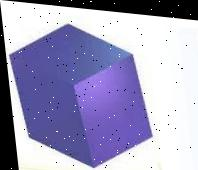cube: (3, 17, 154, 170)
